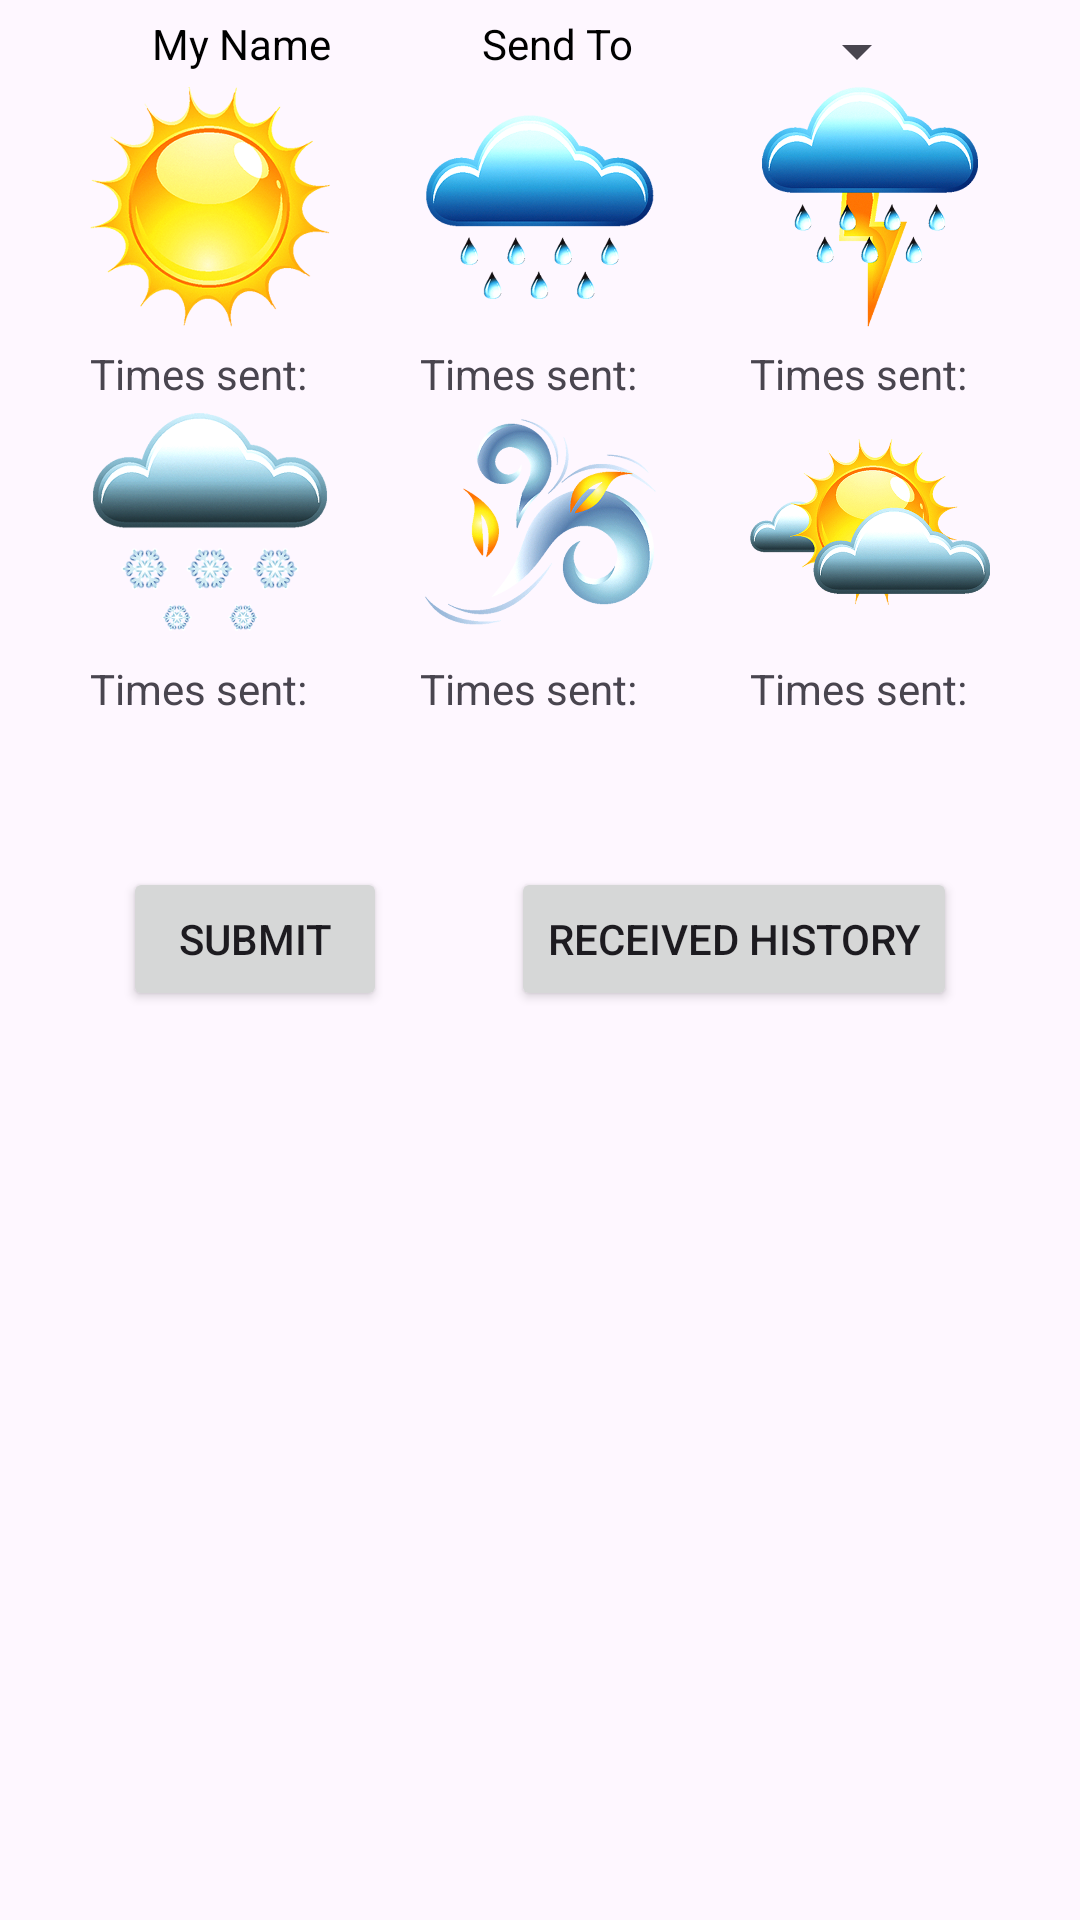

Icon click points for this 1080 × 1920 phone screenshot, format point (x, y):
cloud: point (870, 522)
rain: point (540, 207)
rainstorm: point (870, 207)
snow: point (210, 521)
sun: point (210, 207)
wind: point (540, 521)
